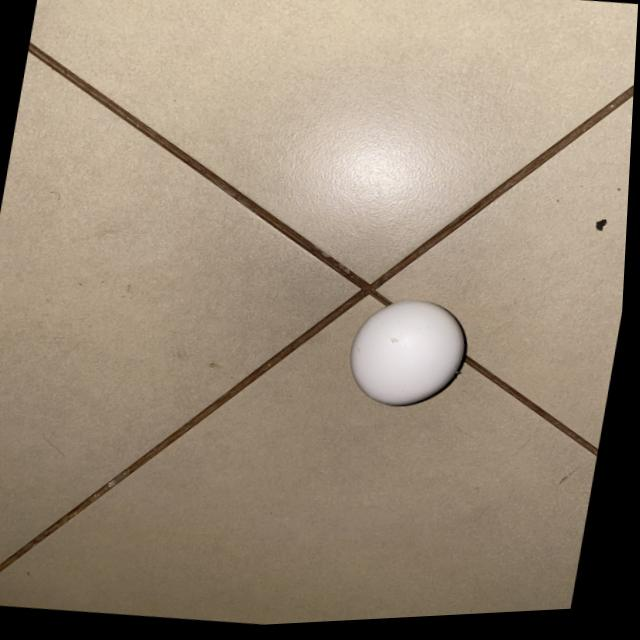egg: (341, 289, 490, 428)
